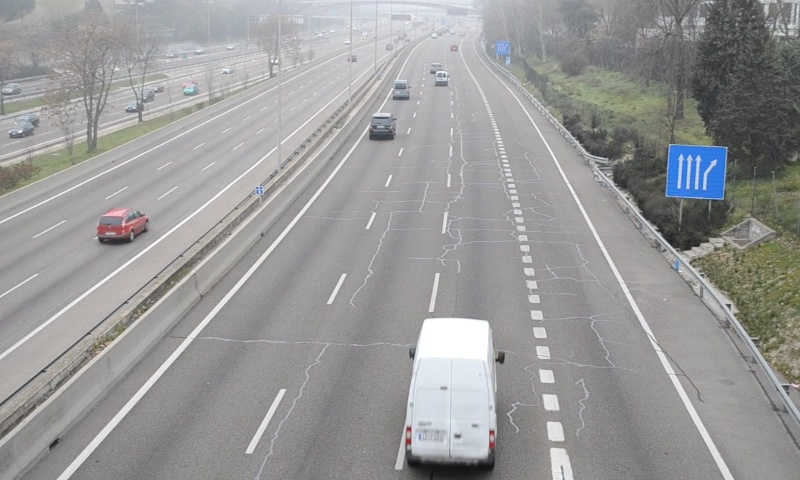car: (368, 113, 396, 138)
van: (404, 318, 498, 470), (391, 78, 408, 98)
